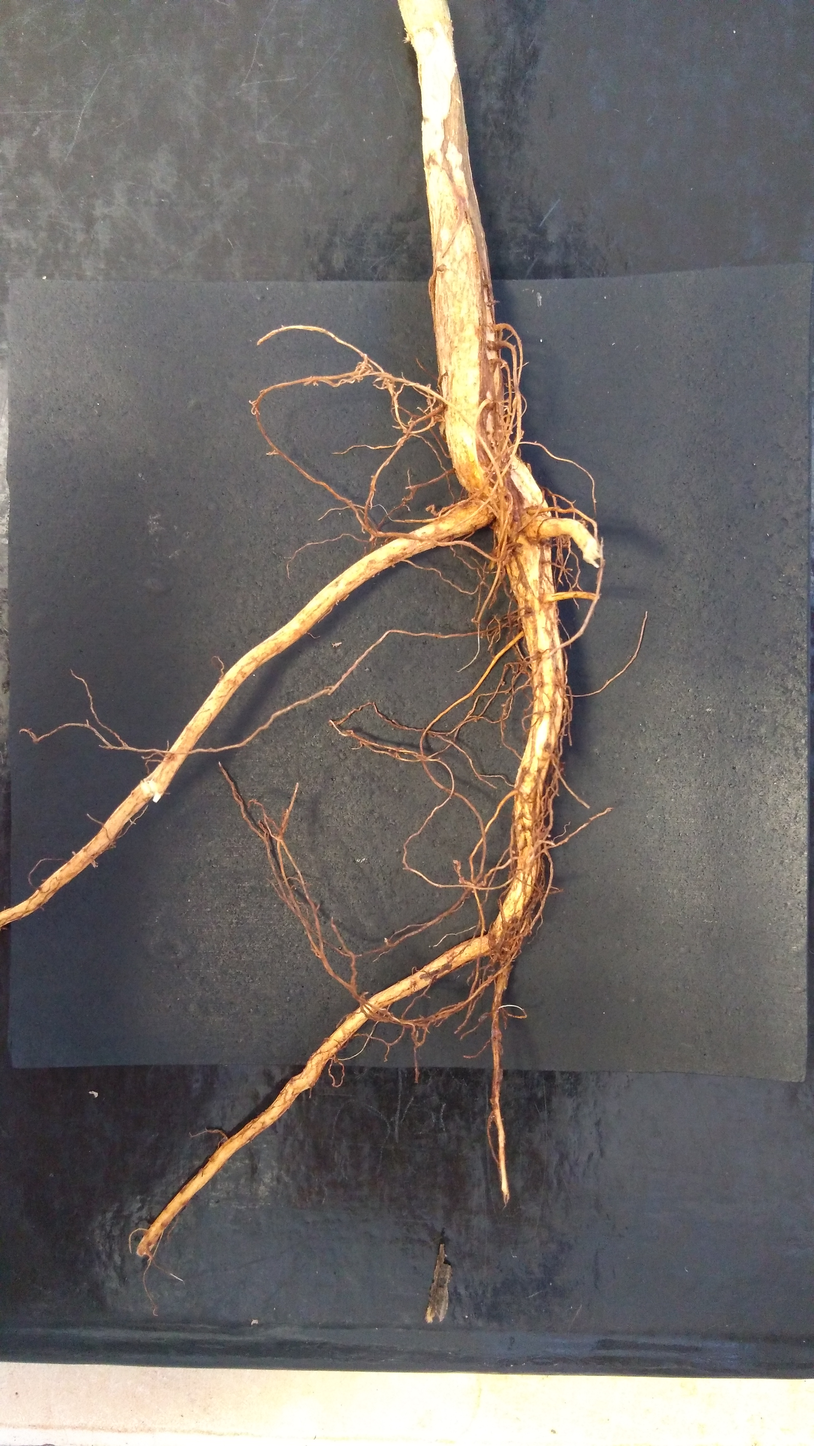nodule: (495, 501, 514, 543), (494, 544, 513, 570), (458, 876, 465, 885), (511, 849, 517, 855)
